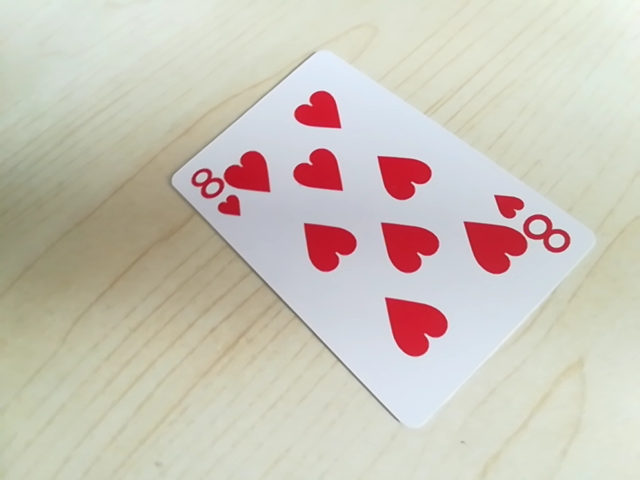hx 8: (495, 199, 574, 258), (182, 166, 249, 216)
